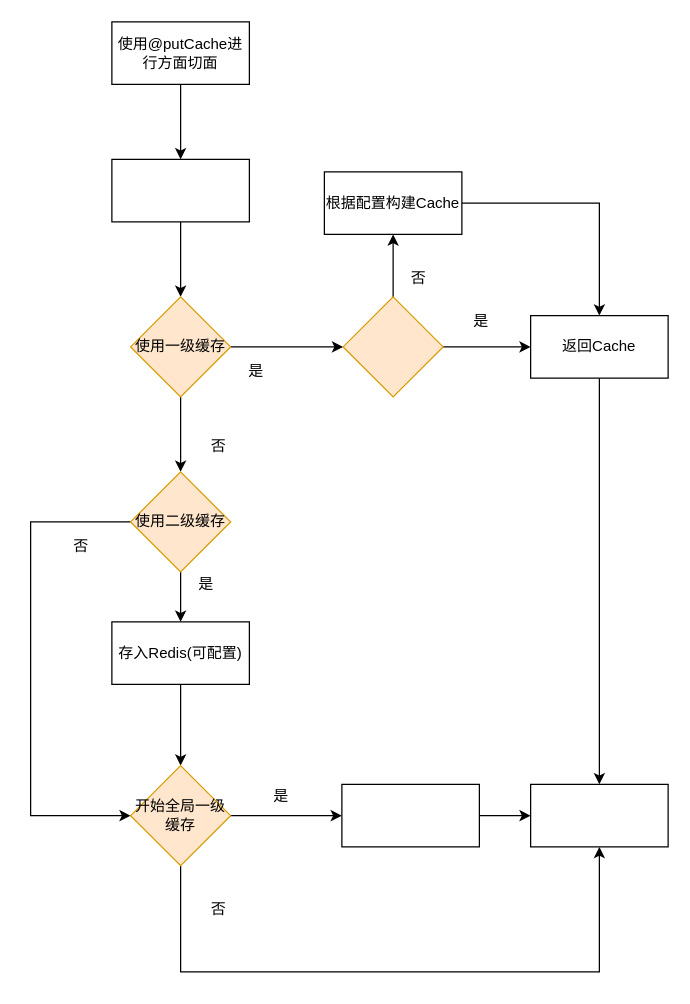
This 690x1004 diagram has some shape labels left out. The centre of each missing label's shape, as x and y in pixels:
Cache存在: (x=392, y=346)
同步其他实例: (x=410, y=815)
结束: (x=598, y=815)
获取注解上的Spel表达式，构建Cache配置信息: (x=180, y=190)
